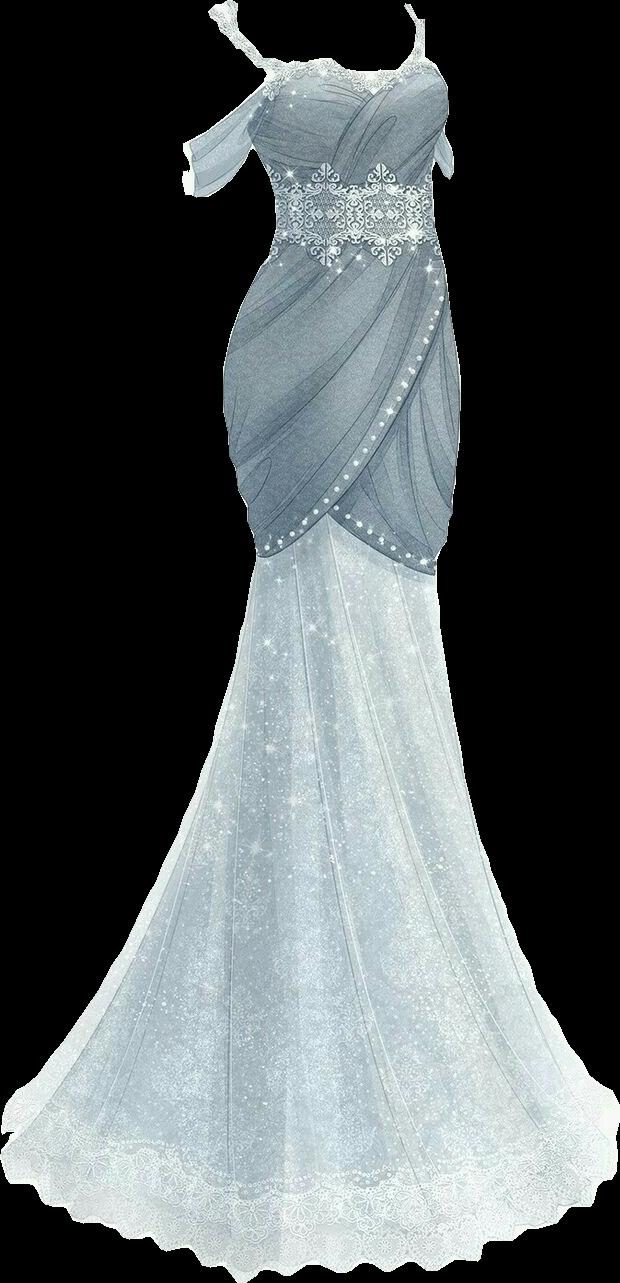Bodice: (208, 0, 448, 267)
Hemline: (0, 1083, 619, 1281), (255, 501, 445, 575)
Neckline: (223, 0, 425, 83)
Skirt: (1, 242, 619, 1282)
Sleeve: (182, 82, 263, 197)
Sleeveline: (238, 71, 276, 151)
